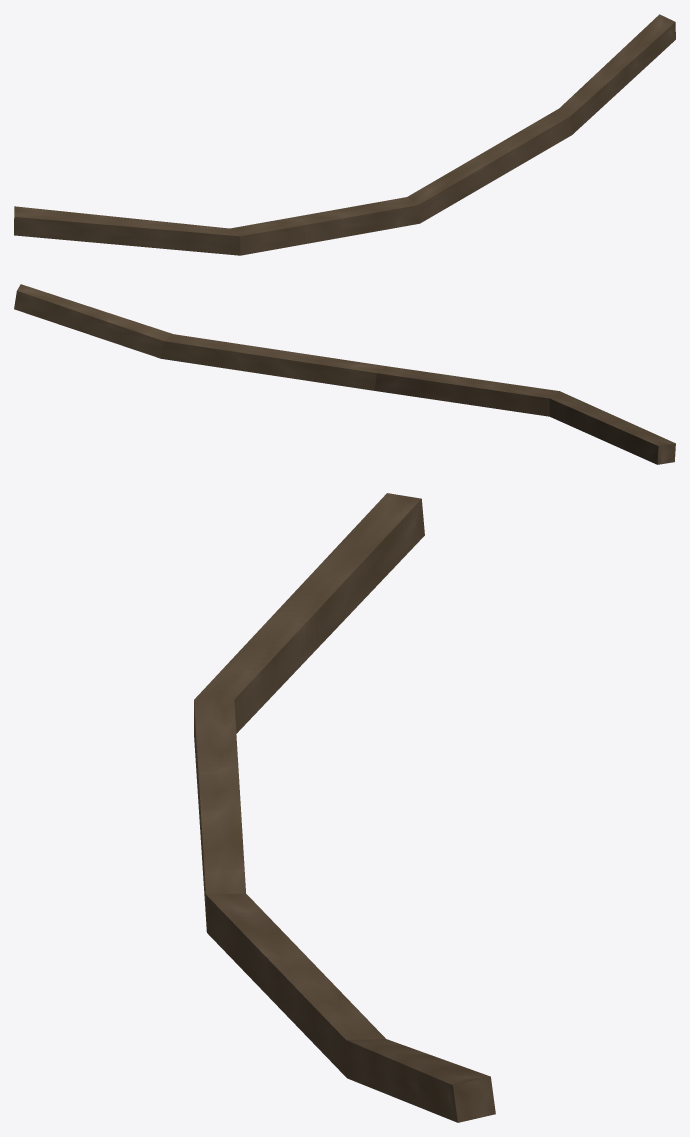
File: Vines01.fbx
The picture shows the model from 3 angles, top to bottom: view 1: azimuth 30°, elevation 25°; view 2: azimuth 150°, elevation 25°; view 3: azimuth 270°, elevation 25°; orthographic projection. The views are drawn at different scales.
Visible parts, largest first — view 1: Vines; view 2: Vines; view 3: Vines.
Boxes of the visible parts, x1,y1,x2,y2 form: Vines: [14, 14, 675, 255]; Vines: [14, 284, 675, 464]; Vines: [194, 493, 495, 1122].
Size of the model in its own units: 2364 by 257 by 483.
1 material, 1 textured.
